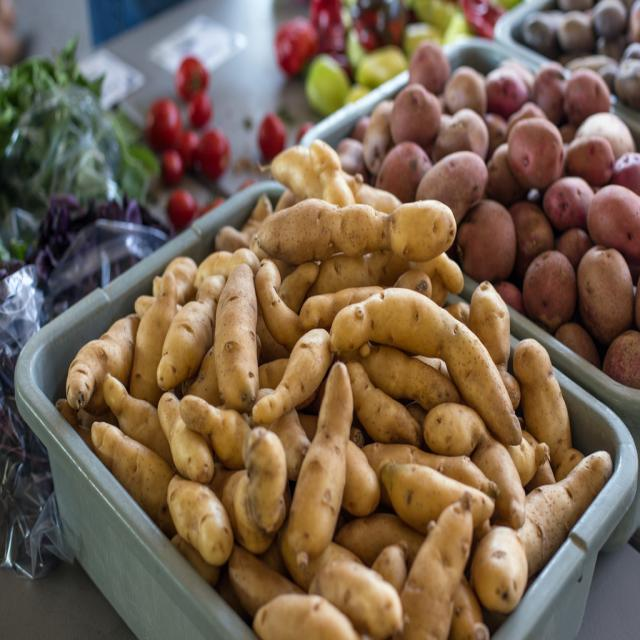Potato: (51, 0, 639, 639), (324, 272, 471, 396), (295, 366, 357, 594), (393, 498, 486, 640), (157, 468, 260, 584), (207, 261, 262, 430), (382, 75, 458, 158), (530, 243, 586, 325), (508, 117, 564, 192), (498, 114, 566, 174)
